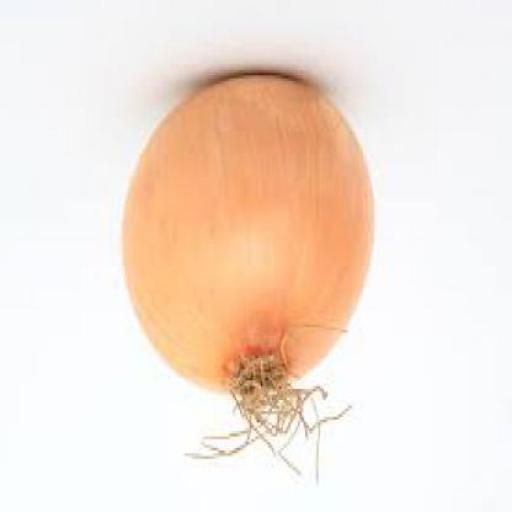biodegradable: (124, 76, 378, 495)
